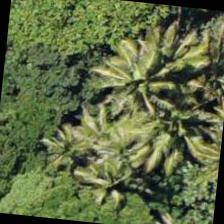Kelapa_Sawit: (73, 96, 172, 195), (114, 38, 212, 138)
